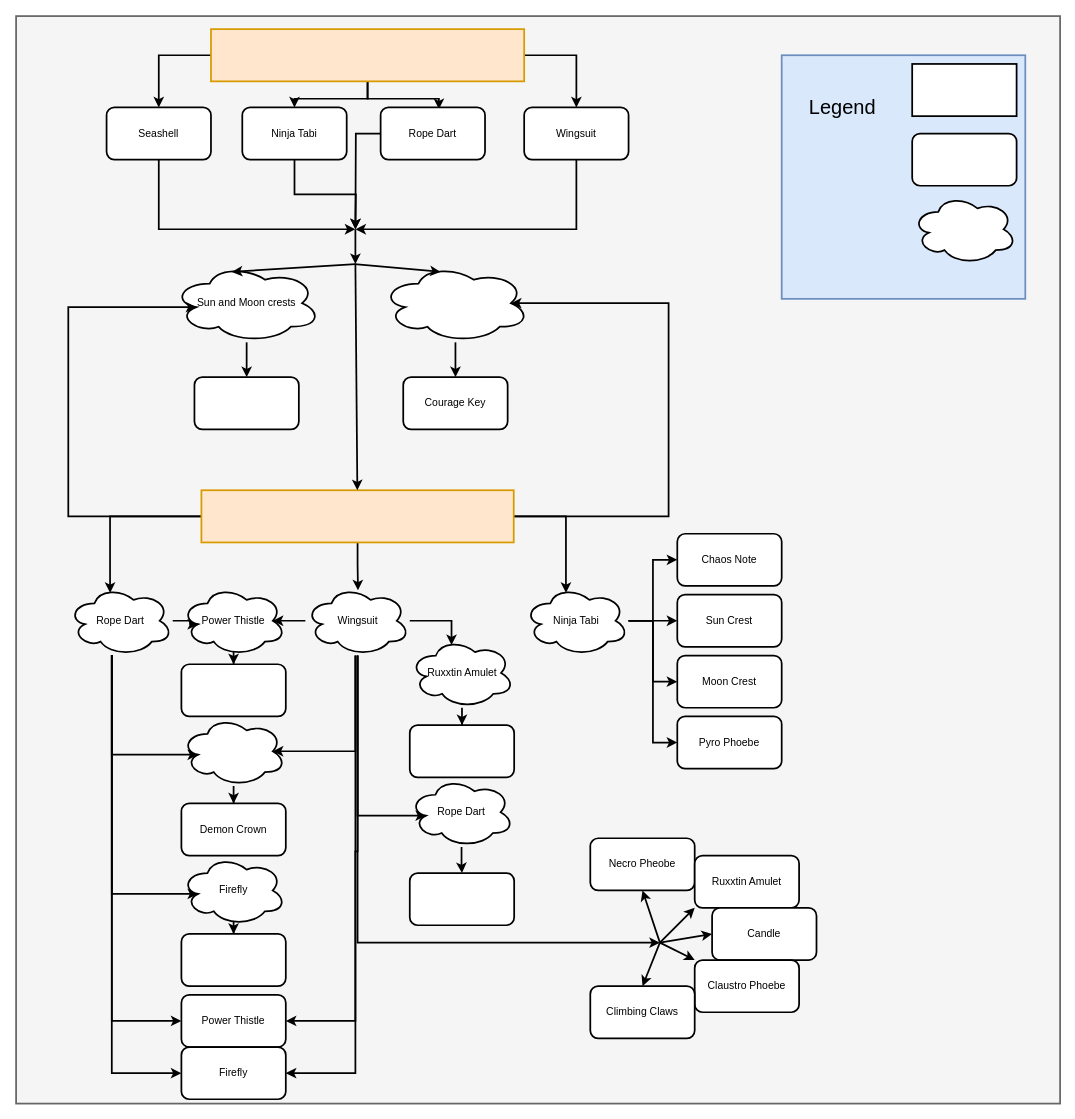
The diagram is 1075 pixels wide and 1119 high, and some of its shapes have lost their labels. The centre of each missing label's shape, as x and y in pixels:
"Acro Phoebe" goes at point 461,751.
"Check" goes at point 964,159.
"Crown and Firefly" goes at point 455,303.
"Hope Note" goes at point 461,899.
"Item" goes at point 964,228.
"Love Key" goes at point 246,403.
"Phase" goes at point 964,90.
"Phase 1" goes at point 367,55.
"Phase 2 (opens with wingsuit/ropedart/tabi)" goes at point 357,516.
"Phobekins" goes at point 233,750.
"Strength Note" goes at point 233,690.
"Symbiosis Note" goes at point 233,960.
